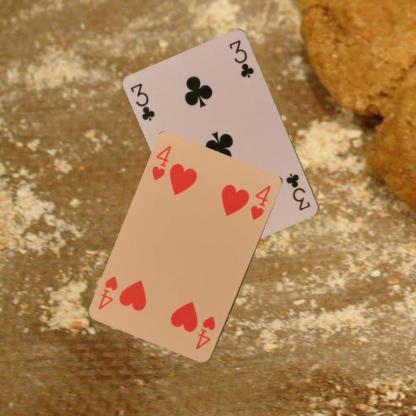3c: (283, 170, 312, 212), (128, 80, 157, 122)
4h: (192, 314, 218, 351), (149, 143, 173, 183)
